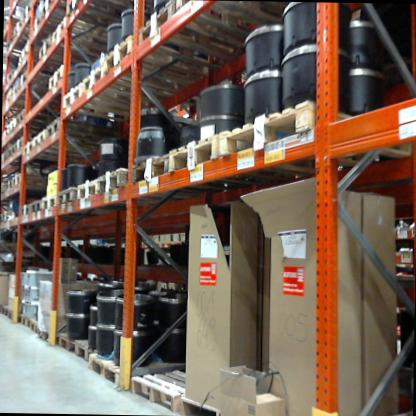pallet: (218, 94, 416, 182), (165, 130, 358, 190), (131, 0, 284, 74), (95, 32, 220, 95), (133, 151, 255, 203), (97, 161, 234, 203), (174, 1, 308, 41), (87, 347, 196, 396), (77, 66, 173, 114), (60, 82, 138, 126), (128, 368, 195, 409), (44, 114, 114, 150), (48, 15, 105, 58), (77, 178, 160, 205), (36, 38, 103, 69), (32, 128, 106, 156), (15, 140, 86, 163), (17, 67, 63, 98), (65, 0, 127, 21), (10, 170, 55, 195), (73, 338, 109, 366), (43, 63, 78, 89), (30, 10, 60, 40), (13, 108, 48, 131), (179, 396, 224, 413), (39, 323, 69, 343), (55, 185, 78, 211), (41, 0, 74, 18), (55, 328, 75, 353), (4, 303, 22, 327), (40, 193, 56, 215), (29, 194, 43, 219), (18, 199, 31, 222), (12, 135, 25, 157), (2, 142, 14, 165), (30, 318, 44, 337), (21, 312, 34, 331), (0, 304, 11, 324)
